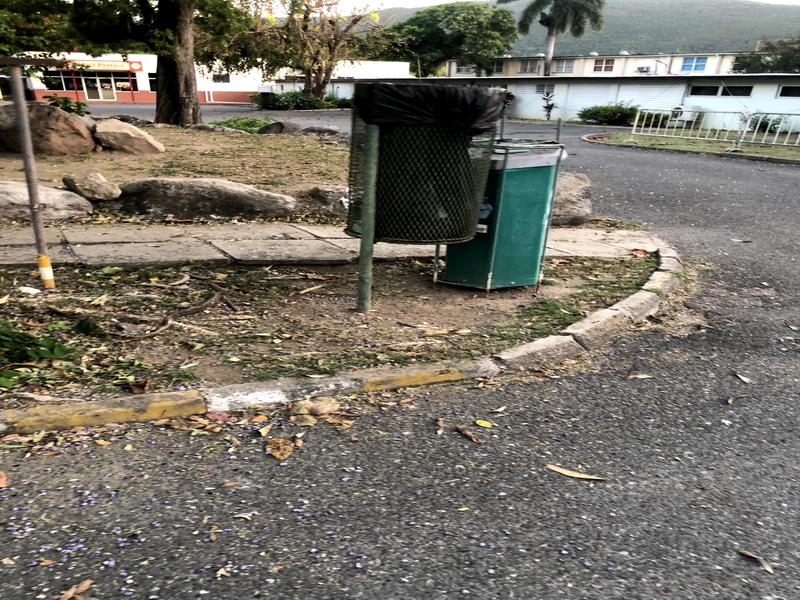18.0053245_-76.7486424_recyclebin: (426, 132, 585, 309)
